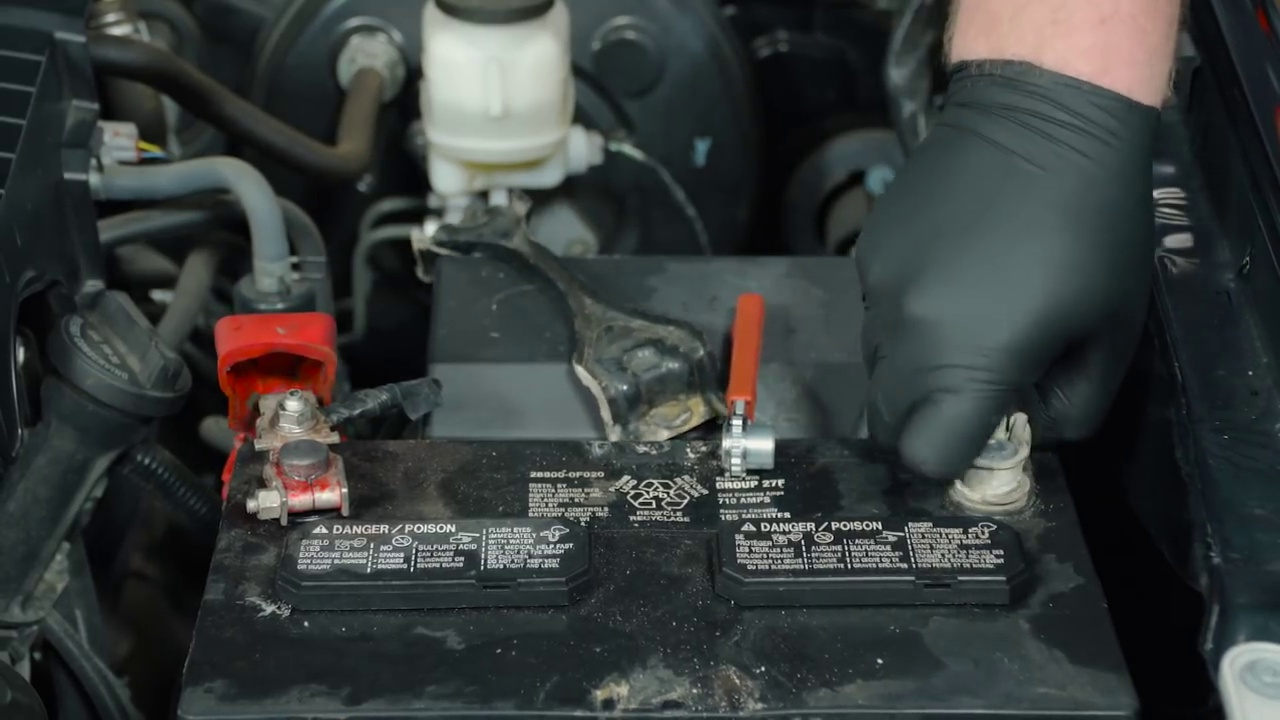battery: (212, 398, 1095, 705)
neg_touched: (846, 276, 1087, 523)
pos_connected: (200, 283, 402, 526)
